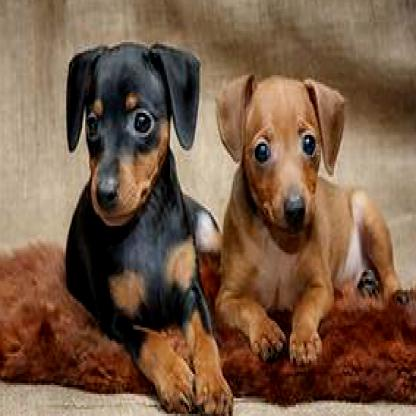dog: (60, 42, 233, 414), (217, 69, 406, 374)
